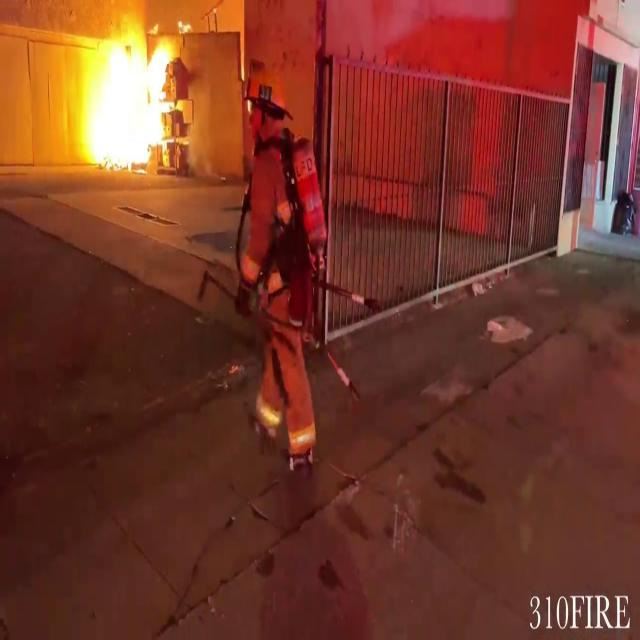Fire: (68, 4, 198, 176)
